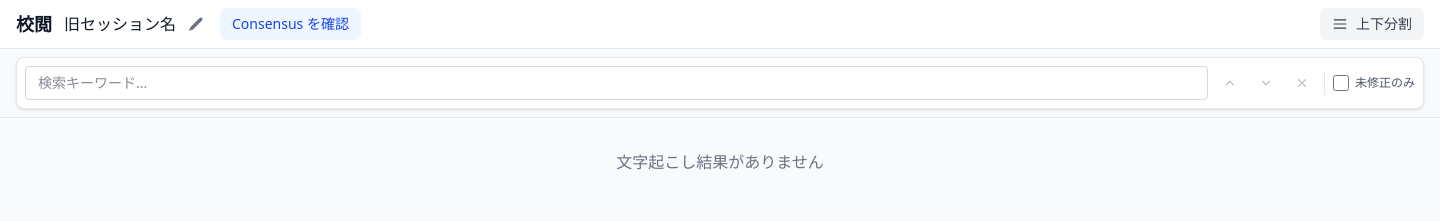
Test: ReviewPage - セッション名編集 › 名前提案ボタンで候補を入力欄にセットする
Click the button named "セッション名を編集" at (196, 24), box [184,12,208,36]
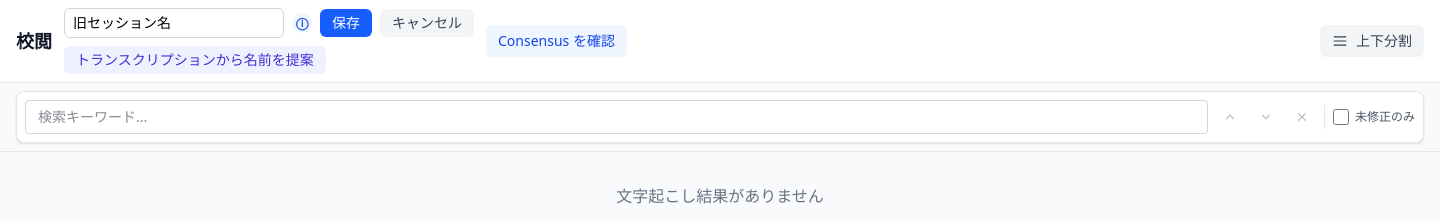
Click the button "トランスクリプションから名前を提案" at (195, 60), box [64,46,326,74]
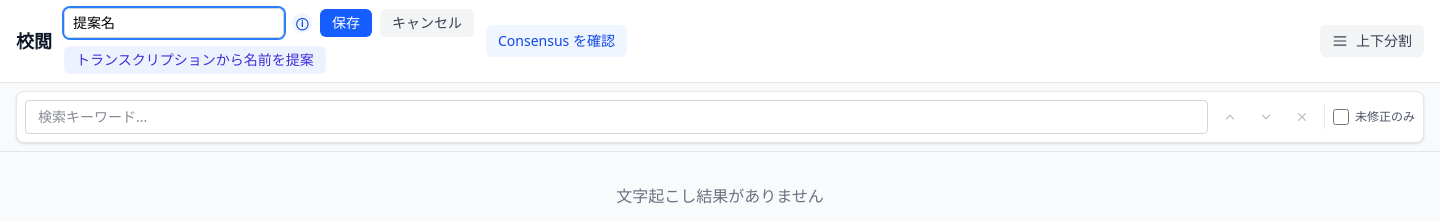
Expected: the field named "セッション名" holds "提案名", [64,8,284,38]
